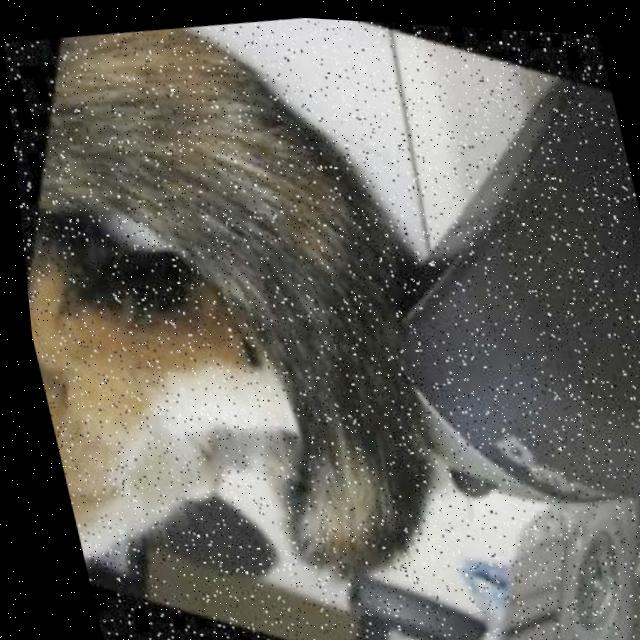mause: (214, 10, 640, 626)
